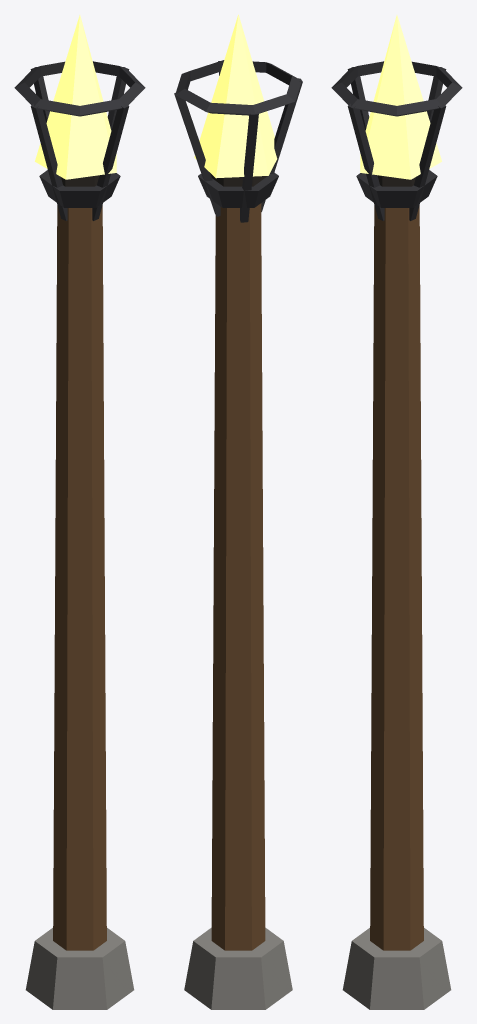
File: grove_torch.glb
The picture shows the model from 3 angles, left to right: view 1: azimuth 90°, elevation 25°; view 2: azimuth 150°, elevation 25°; view 3: azimuth 270°, elevation 25°; orthographic projection.
Visible parts, largest first — view 1: grove_torch; view 2: grove_torch; view 3: grove_torch.
Part boxes in pixels (<box>): grove_torch: <box>14,15,145,1009</box>; grove_torch: <box>174,14,302,1009</box>; grove_torch: <box>331,15,462,1009</box>.
Size of the model in its own units: 0.29 by 2.38 by 0.29.
